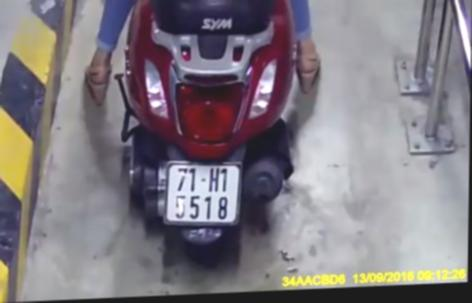License_Plate: (154, 154, 252, 238)
